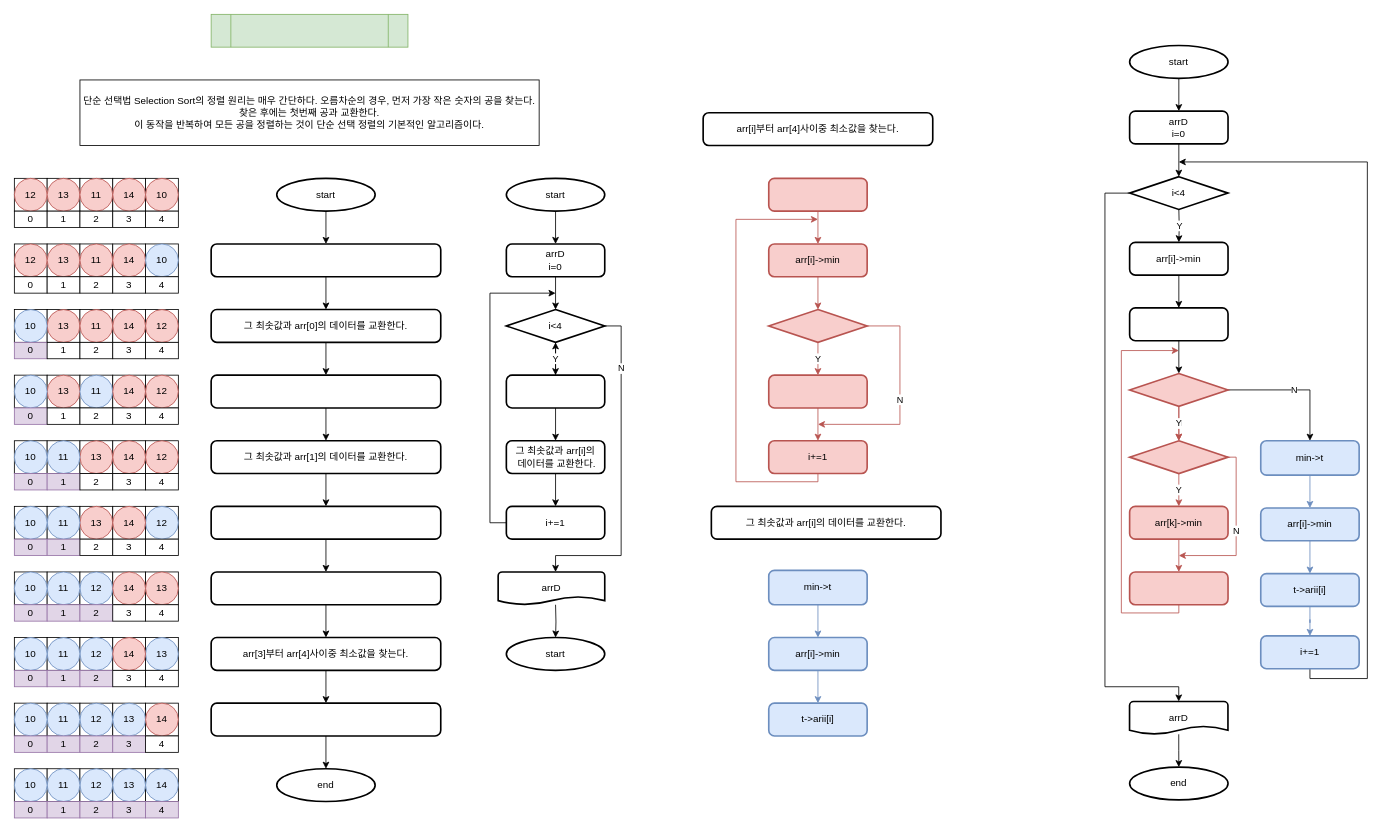
The diagram is 1388 pixels wide and 832 high, and some of its shapes have lost their labels. Each missing label, with the box of its shape:
arr[0]부터 arr[4]사이중 최소값을 찾는다.: (210, 243, 441, 277)
arr[1]부터 arr[4]사이중 최소값을 찾는다.: (210, 374, 441, 408)
arr[2]부터 arr[4]사이중 최소값을 찾는다.: (210, 505, 441, 540)
arr[i+1]>min: (768, 374, 868, 408)
arr[i]>arr[i+1]: (768, 308, 868, 343)
arr[i]부터 arr[4]사이의 최소값을 찾는다.: (505, 374, 605, 408)
arr[k]<min: (1128, 440, 1228, 474)
i+1->k: (1128, 307, 1228, 341)
i=0: (768, 177, 868, 212)
k+=1: (1128, 571, 1228, 605)
k<5: (1128, 372, 1228, 407)
Selection Sort: (210, 14, 408, 47)
그 최솟값과 arr[2]의 데이터를 교환한다.: (210, 571, 441, 605)
그 최솟값과 arr[3]의 데이터를 교환한다.: (210, 702, 441, 736)
